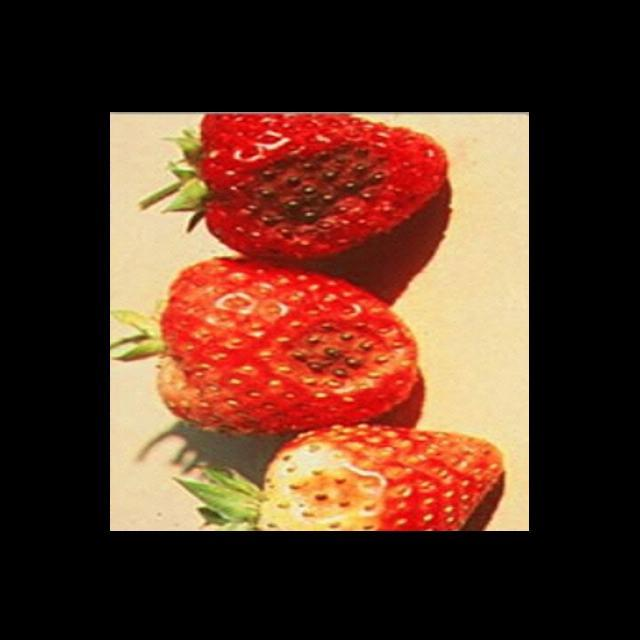Anthracnose Fruit Rot: (232, 136, 389, 239), (263, 431, 392, 530), (276, 315, 404, 395)
